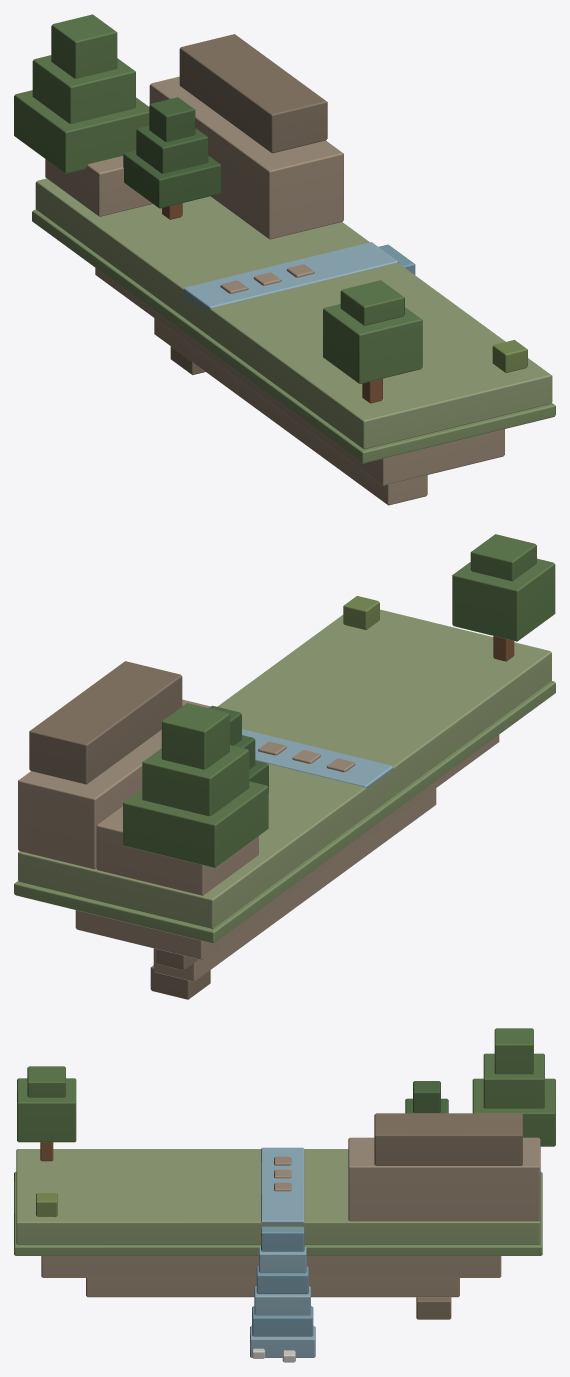
The model's file is region_07.glb.
3 views of the same model, one above another, from view 1: azimuth 30°, elevation 25°; view 2: azimuth 150°, elevation 25°; view 3: azimuth 270°, elevation 25° (orthographic). The views are drawn at different scales.
Parts seen in each view (by area): view 1: region_07_static; view 2: region_07_static; view 3: region_07_static.
Boxes of the visible parts, bbox=[...] form: region_07_static: bbox=[14, 14, 555, 505]; region_07_static: bbox=[14, 534, 555, 999]; region_07_static: bbox=[14, 1028, 555, 1357].
Bounding box in the file's own units: 5.35 × 6.35 × 12.4.
